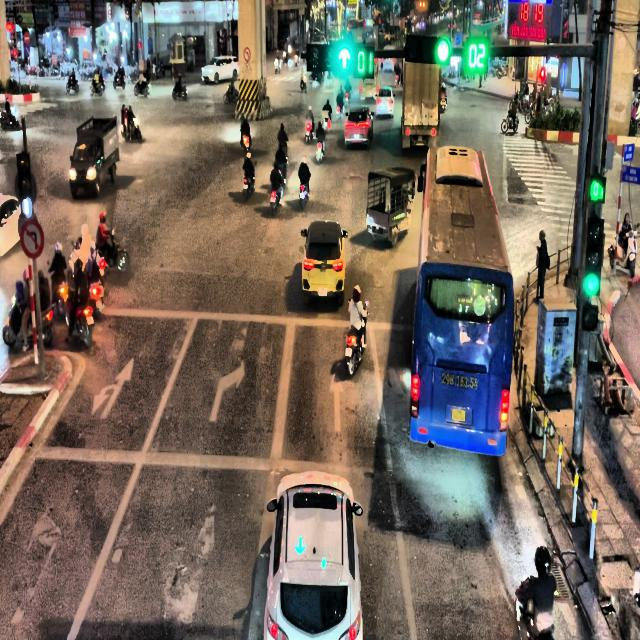BUS: (409, 144, 514, 456)
CAR: (263, 470, 363, 639), (300, 220, 348, 305), (0, 193, 21, 257), (344, 105, 374, 149), (201, 55, 239, 84), (375, 86, 395, 117)
MOTORBIKE: (61, 284, 94, 348), (345, 300, 369, 376), (97, 229, 129, 274), (120, 114, 142, 142), (0, 98, 19, 130), (270, 182, 284, 216), (501, 111, 519, 133), (242, 172, 255, 200), (134, 77, 151, 96), (223, 85, 239, 104), (276, 158, 288, 183), (90, 77, 105, 96), (299, 182, 309, 210), (172, 84, 187, 100), (66, 75, 79, 93), (241, 131, 251, 153), (113, 70, 125, 88), (305, 119, 314, 143), (316, 137, 324, 163), (300, 72, 307, 91), (274, 58, 281, 74)
TRUCK: (69, 115, 119, 198)
